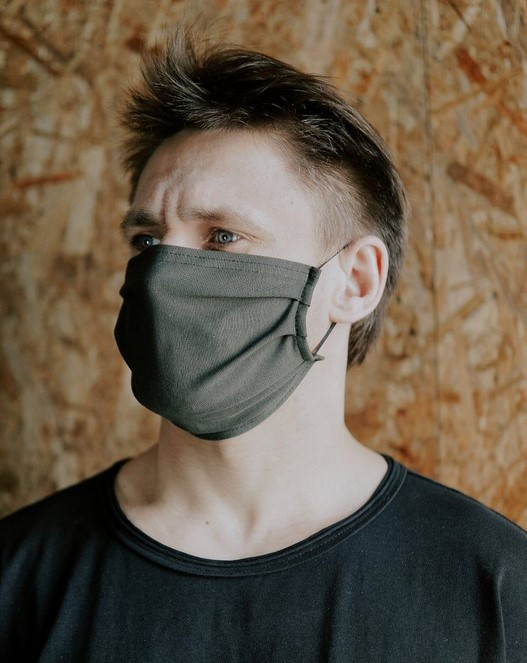face_with_mask: (111, 51, 399, 444)
